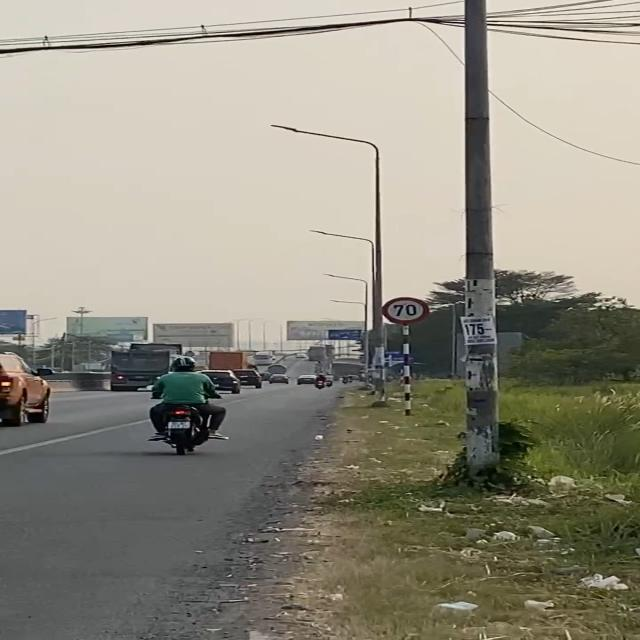127-toc-do-toi-da-70: (381, 297, 431, 323)
